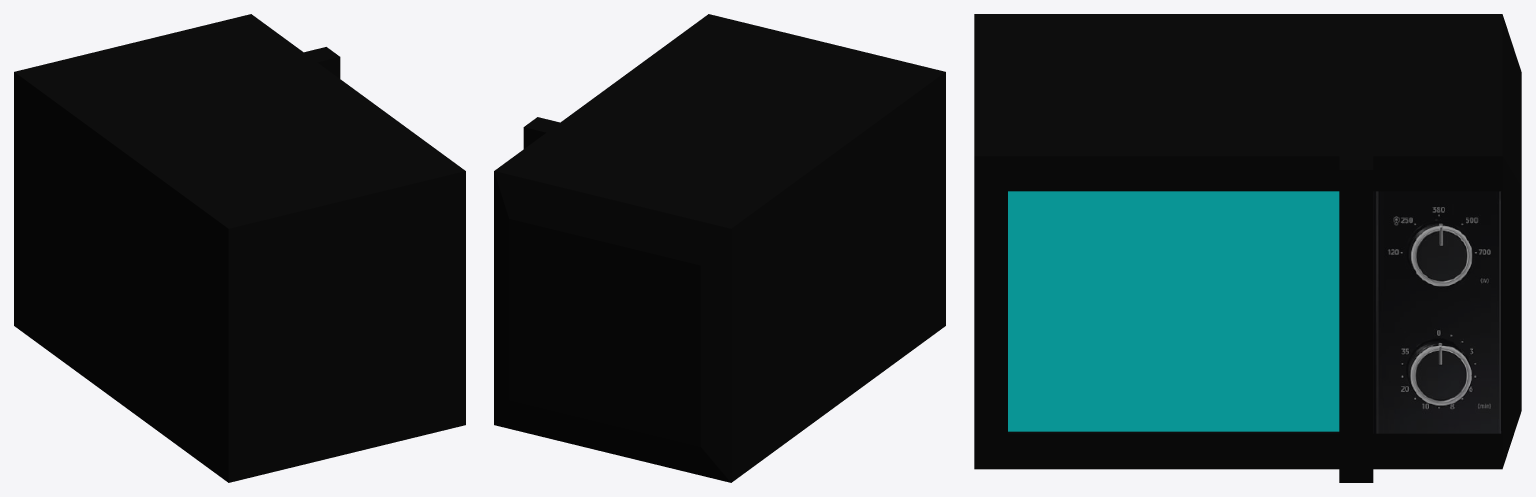
Rendered from microwave.fbx.
3 renders of one model, left to right at view 1: azimuth 30°, elevation 25°; view 2: azimuth 150°, elevation 25°; view 3: azimuth 270°, elevation 25°, orthographic. The views are drawn at different scales.
Visible parts, largest first — view 1: Cube; view 2: Cube; view 3: Cube.
Boxes of the visible parts, left/top/right/bottom form: Cube: left=14, top=14, right=465, bottom=482; Cube: left=494, top=14, right=945, bottom=482; Cube: left=974, top=14, right=1521, bottom=482.
Bounding box in the file's own units: 27.73 × 25.9 × 41.08.
Materials: 3 (1 with a texture image).
